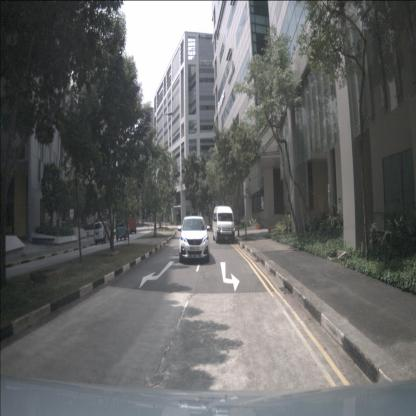vehicle-car: (179, 215, 210, 263), (212, 206, 235, 243), (94, 221, 112, 245), (116, 218, 130, 241)
vehicle-truck: (128, 215, 136, 234)
